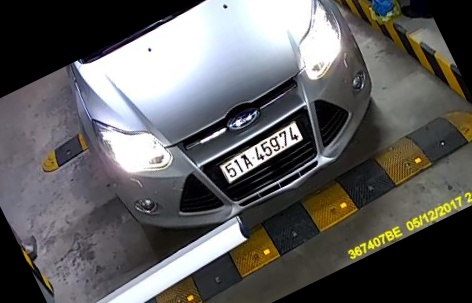plate: (216, 122, 308, 178)
